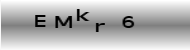6: (121, 15, 136, 29)
E: (34, 14, 46, 28)
M: (53, 15, 73, 29)
k: (76, 8, 91, 22)
r: (94, 22, 106, 33)
